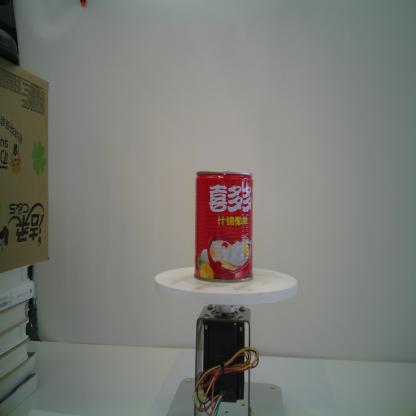Canned Food: (192, 168, 256, 285)
